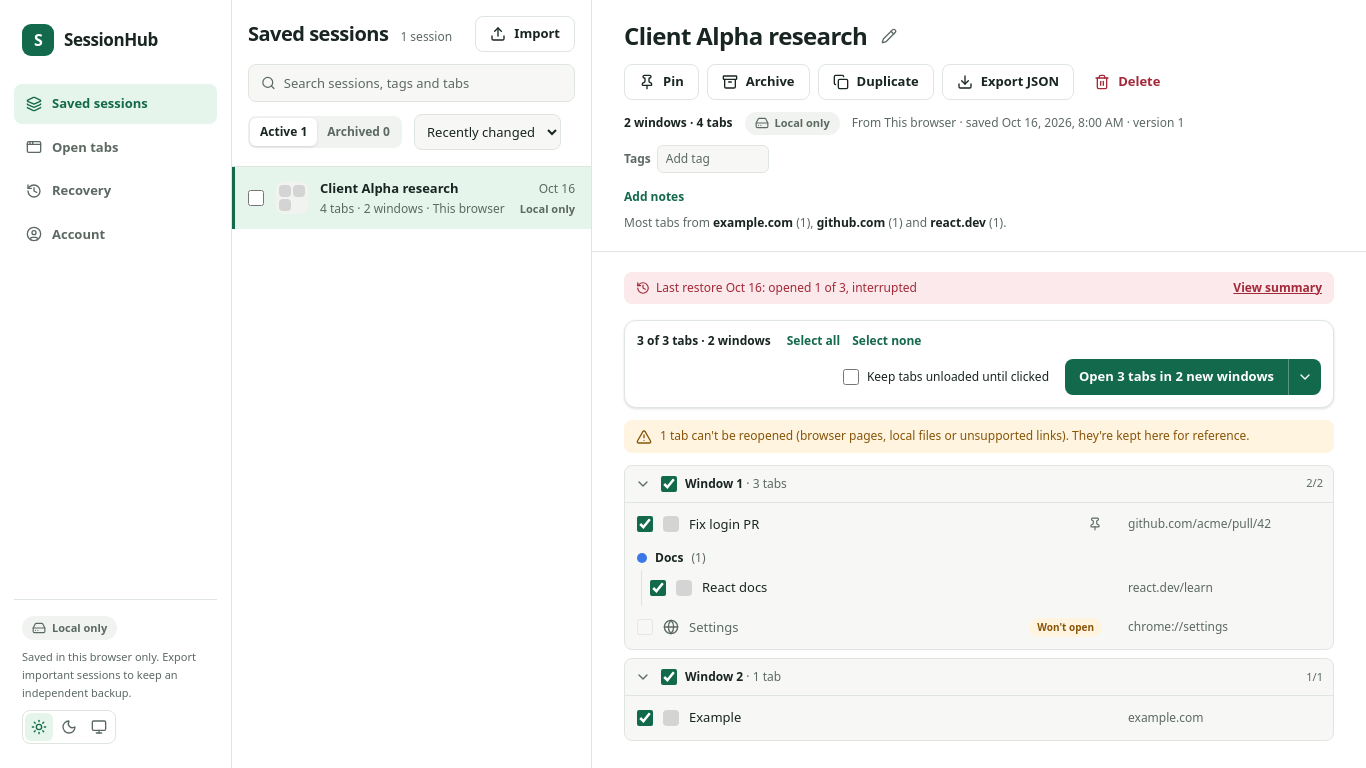
it: restore retry › explains an interrupted restore that a later worker settled
Expected: the text "Last restore Oct 16: opened 1 of 3, interrupted" is shown, [636, 280, 917, 296]
Click the button "View summary".
click(1278, 288)  # box [1233, 280, 1322, 296]
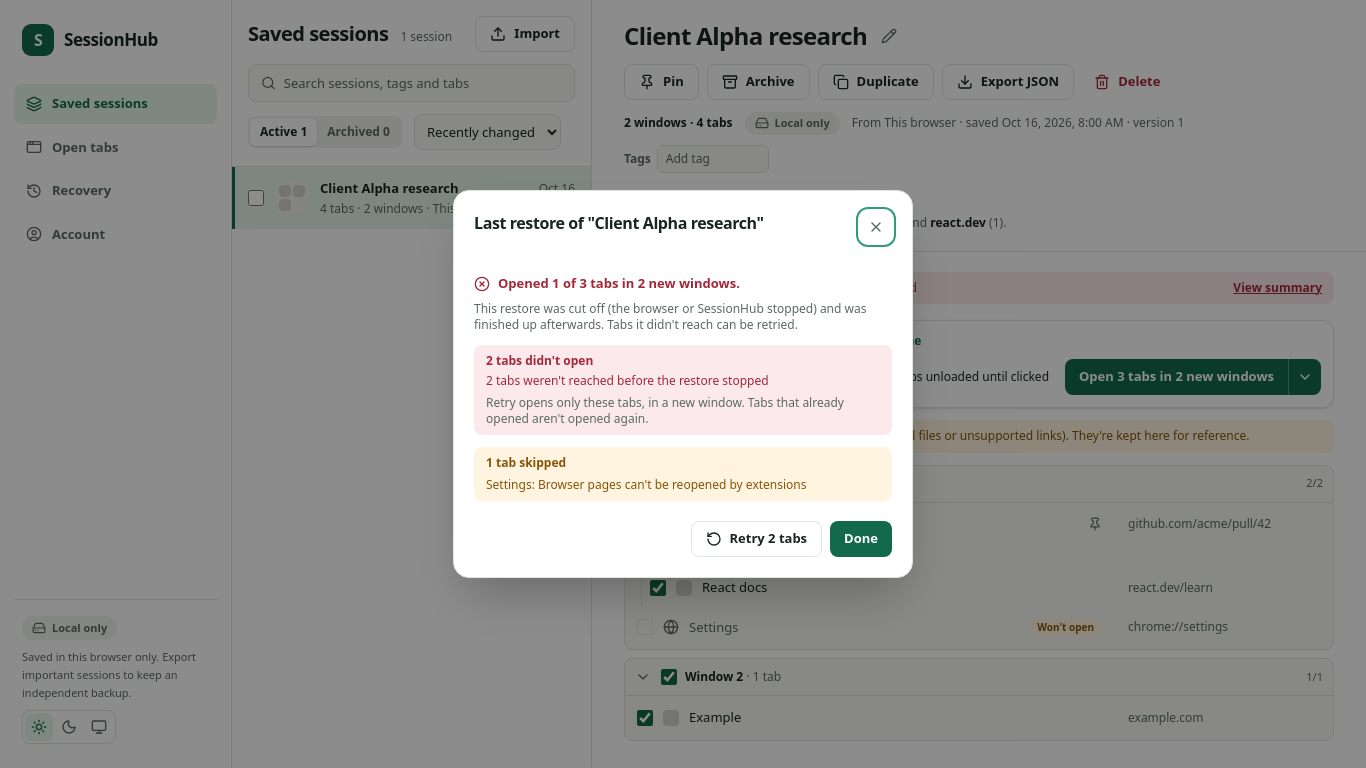
Now the text "This restore was cut off" is shown, box [474, 300, 866, 333]
Now the list item "2 tabs weren't reached before the restore stopped" is shown, box [486, 373, 769, 389]
Now the button "Retry 2 tabs" is shown, box [690, 521, 822, 557]
